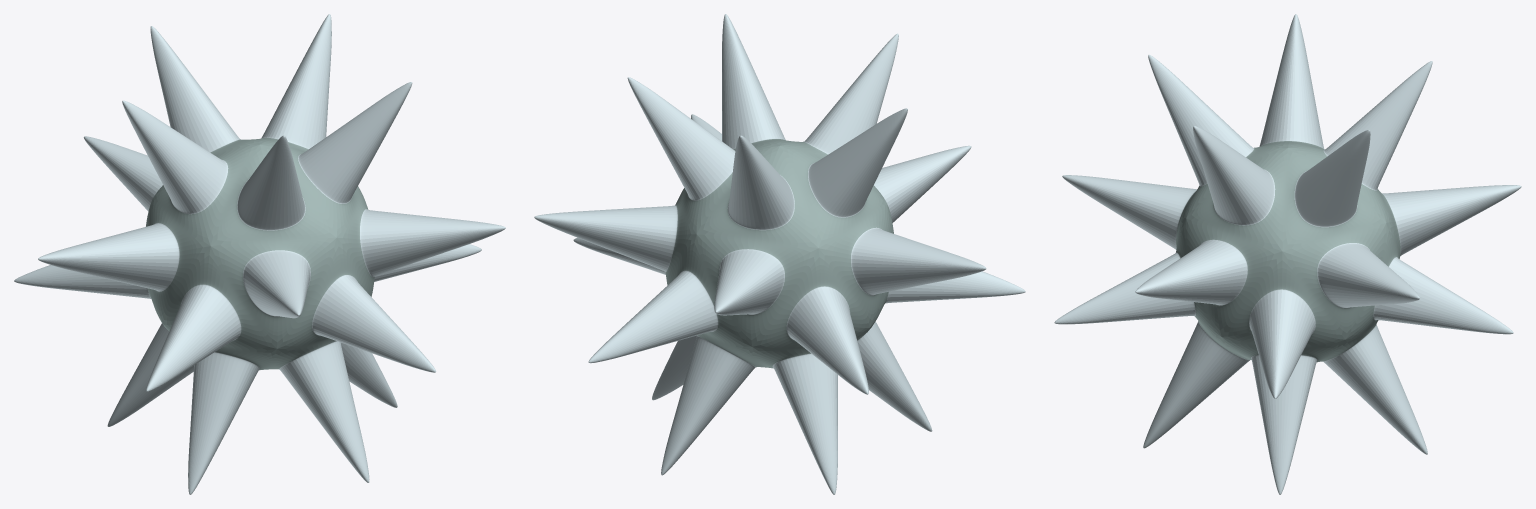
File: spikeball.fbx
3 views of the same model, side by side, from view 1: azimuth 30°, elevation 25°; view 2: azimuth 150°, elevation 25°; view 3: azimuth 270°, elevation 25° (orthographic). The views are drawn at different scales.
Parts seen in each view (by area): view 1: spikeball; view 2: spikeball; view 3: spikeball.
Part boxes in pixels (x1,y1,x2,y2): spikeball: [14, 14, 505, 494]; spikeball: [534, 14, 1025, 494]; spikeball: [1054, 14, 1521, 494].
Size of the model in its own units: 135 by 110 by 131.
